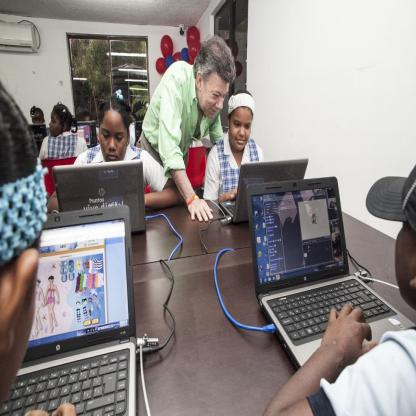board: (246, 175, 416, 371), (0, 203, 137, 416), (52, 160, 147, 233), (218, 157, 309, 224), (29, 122, 48, 152), (72, 122, 92, 148), (90, 122, 100, 146), (129, 119, 136, 147), (135, 122, 142, 144)
